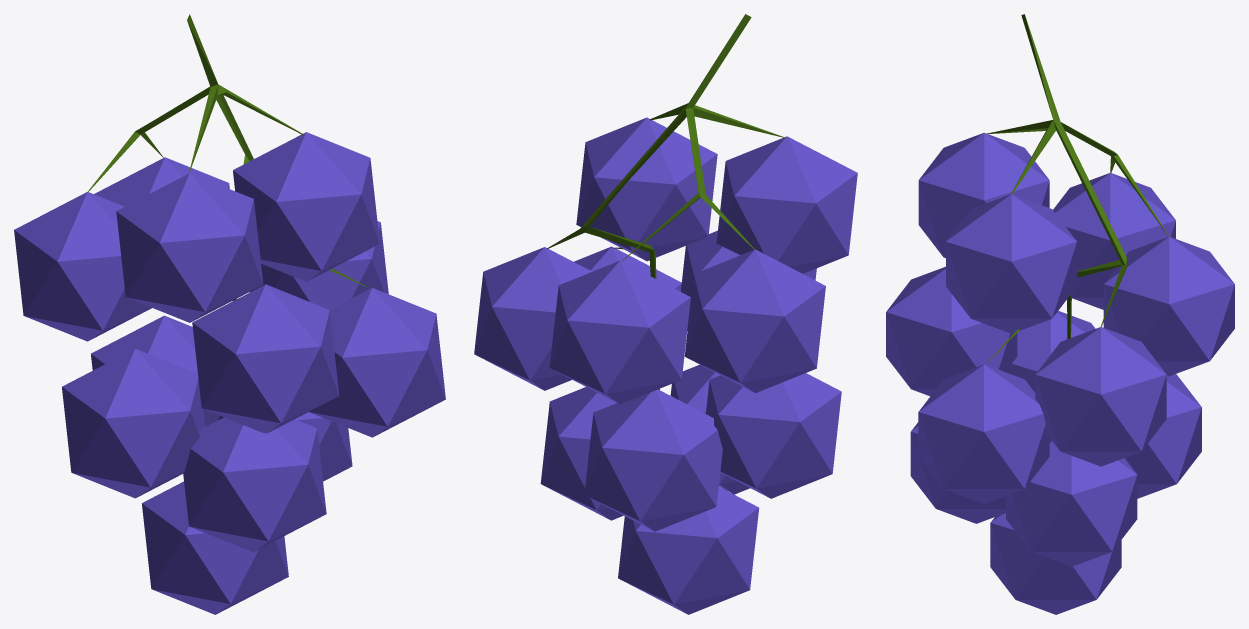
File: grapes.fbx
3 views of the same model, side by side, from view 1: azimuth 30°, elevation 25°; view 2: azimuth 150°, elevation 25°; view 3: azimuth 270°, elevation 25° (orthographic). The views are drawn at different scales.
Visible parts, largest first — view 1: grapes; view 2: grapes; view 3: grapes.
Part boxes in pixels (left/top/right/bottom): grapes: left=14, top=14, right=445, bottom=614; grapes: left=474, top=14, right=857, bottom=614; grapes: left=886, top=14, right=1234, bottom=614.
Bounding box in the file's own units: 14.76 × 24.96 × 13.57.
